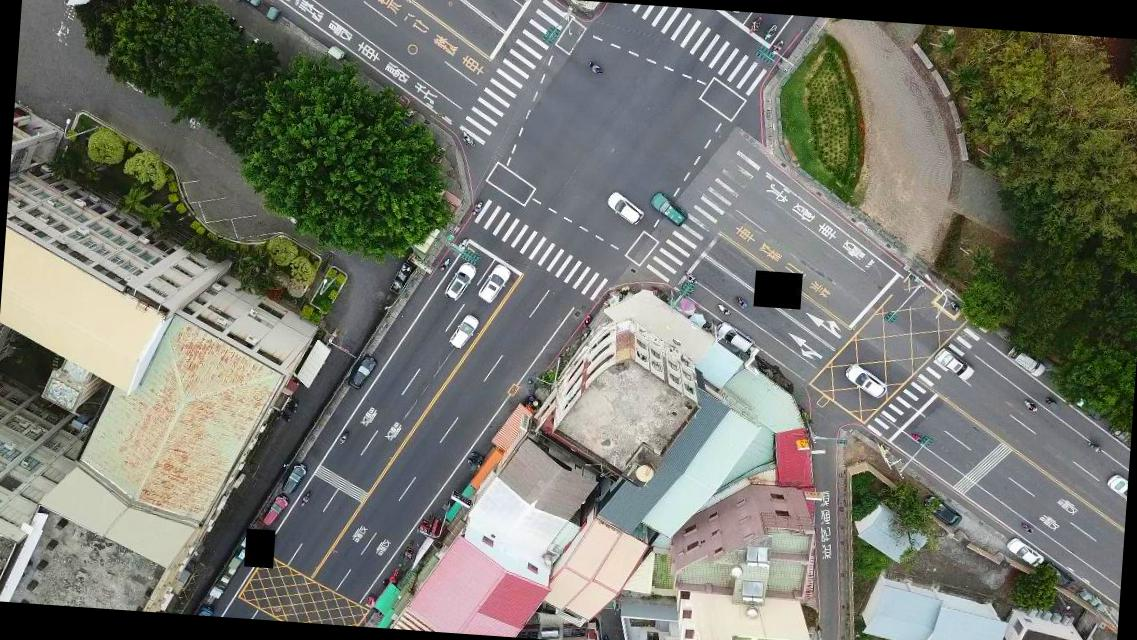vehicle: (842, 364, 888, 398), (933, 346, 976, 382), (475, 262, 510, 306), (604, 188, 644, 226), (647, 191, 688, 226), (920, 493, 962, 527), (442, 262, 476, 304), (1006, 342, 1046, 377), (1004, 537, 1045, 568), (348, 351, 379, 392), (447, 313, 478, 352), (1038, 560, 1076, 590), (280, 460, 308, 495), (261, 492, 287, 527), (1104, 471, 1127, 496)
